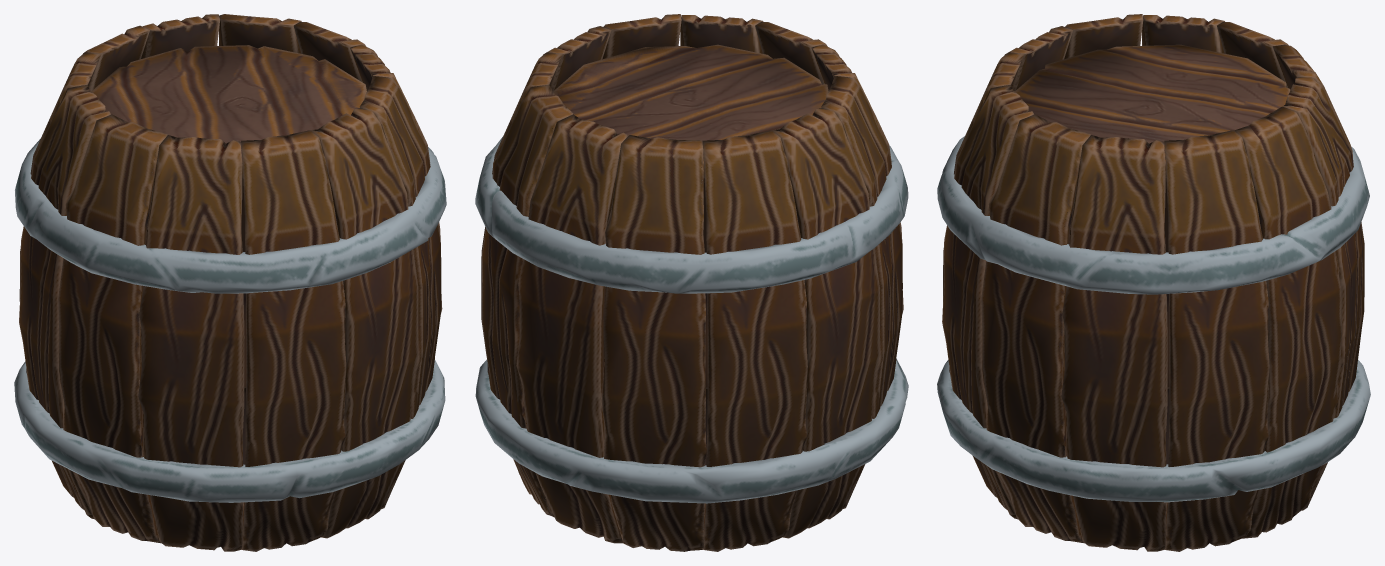
File: BarrelClosed_01.fbx
The picture shows the model from 3 angles, left to right: view 1: azimuth 30°, elevation 25°; view 2: azimuth 150°, elevation 25°; view 3: azimuth 270°, elevation 25°; orthographic projection.
Visible parts, largest first — view 1: BarrelClosed_01; view 2: BarrelClosed_01; view 3: BarrelClosed_01.
Part boxes in pixels (bbox=[...]): BarrelClosed_01: bbox=[14, 14, 446, 551]; BarrelClosed_01: bbox=[475, 14, 908, 551]; BarrelClosed_01: bbox=[937, 14, 1370, 551].
Bounding box in the file's own units: 142 × 147 × 142.
Materials: 1 (1 with a texture image).
